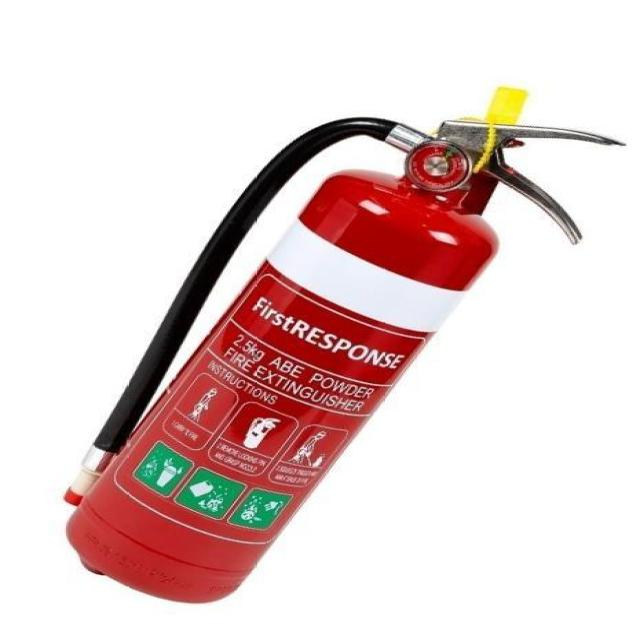fire_extinguisher: (54, 79, 632, 609)
